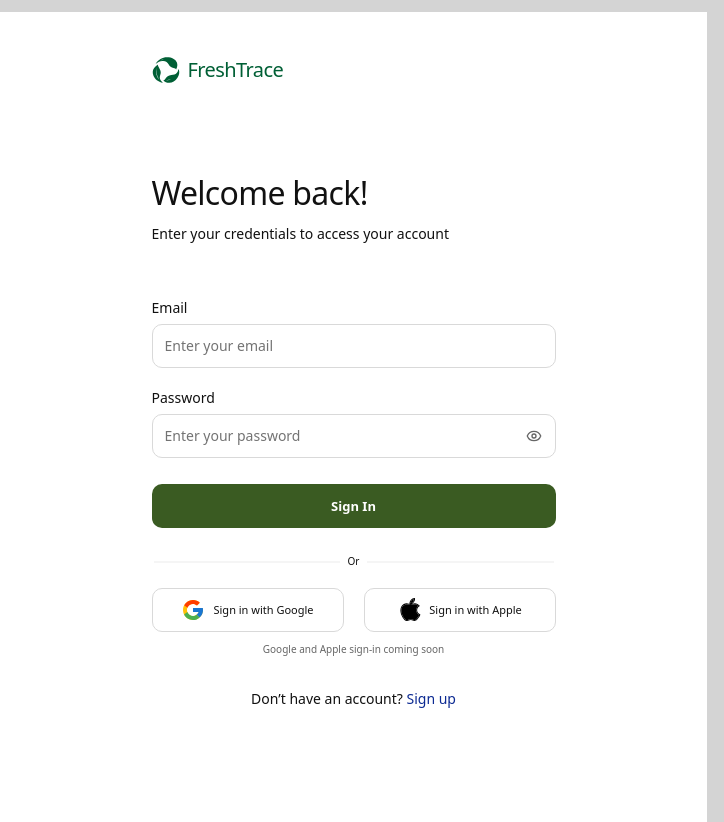
Test case: login auth controls › toggles password visibility without losing the entered value
Type "example-password" into the password field labelled "Password" at (354, 436), box [152,414,556,458]
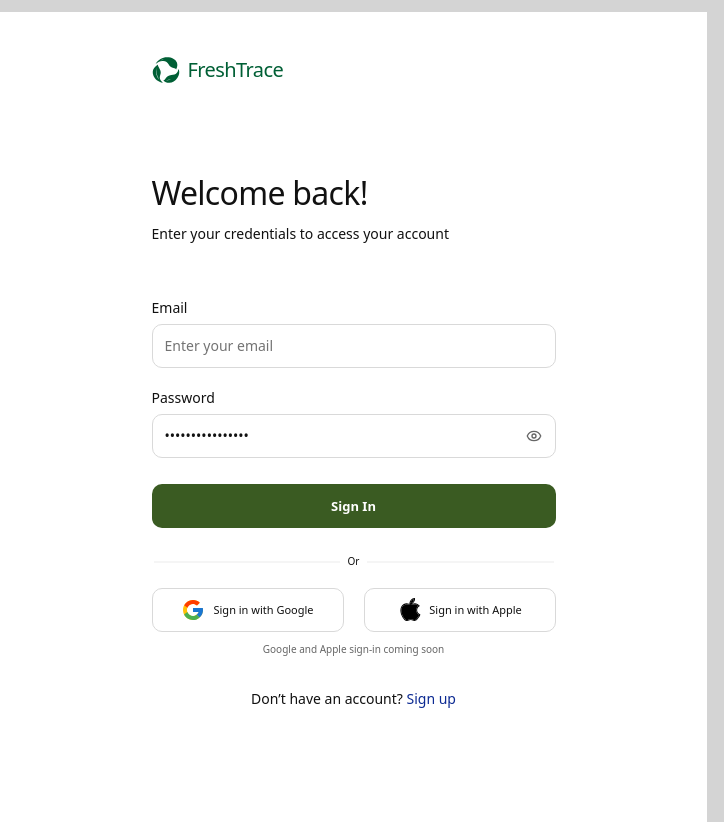
Click the button named "Show password" at (534, 436), box [512,414,556,458]
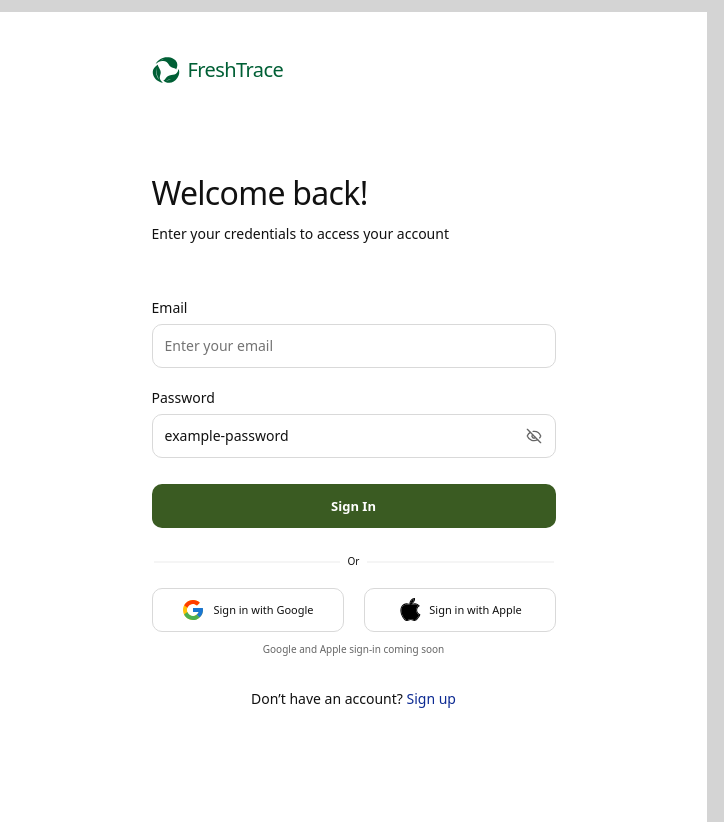
Now the field labelled "Password" shows its text, box [152,414,556,458]
Click the button named "Hide password" at (534, 436), box [512,414,556,458]
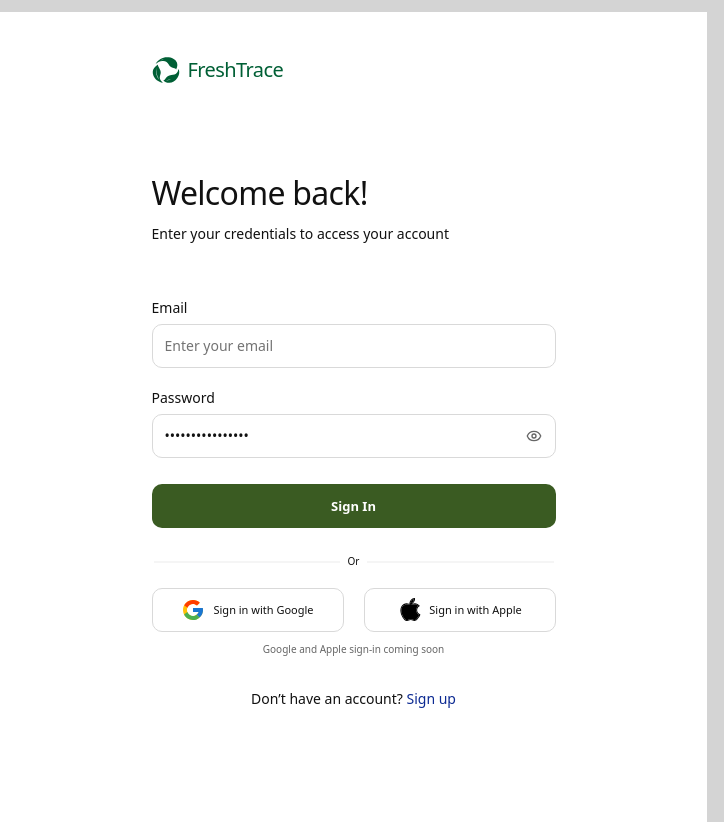
Now the password field labelled "Password" hides its text, box [152,414,556,458]
